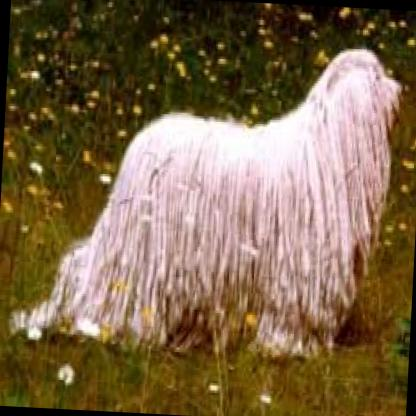komondor: (2, 19, 404, 362)
